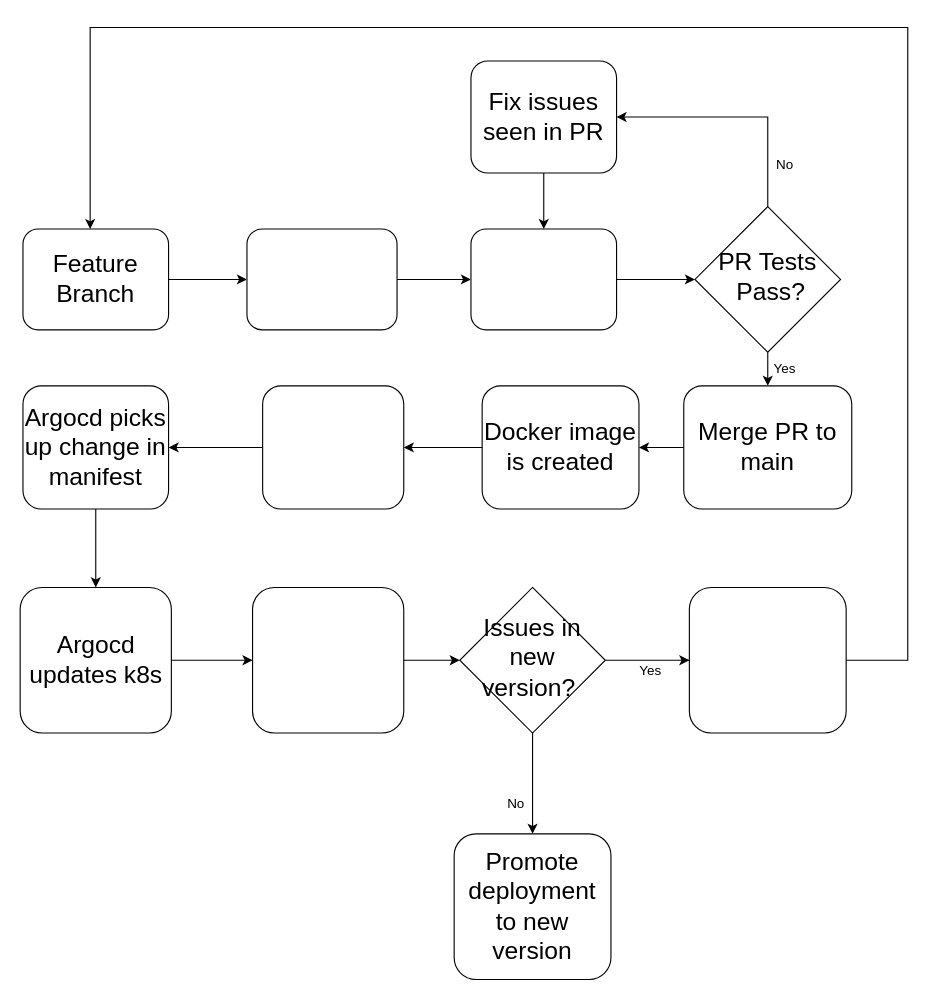
The diagram is 936 pixels wide and 999 high, and some of its shapes have lost their labels. Each missing label, with the centre of its shape:
"K8s manifest is updated" goes at pixel 333 447.
"New version is deployed as blue-green or canary" goes at pixel 327 659.
"PR Created to Main branch" goes at pixel 321 279.
"Rollback to last working version" goes at pixel 767 659.
"Tests done on PR branch" goes at pixel 543 279.
